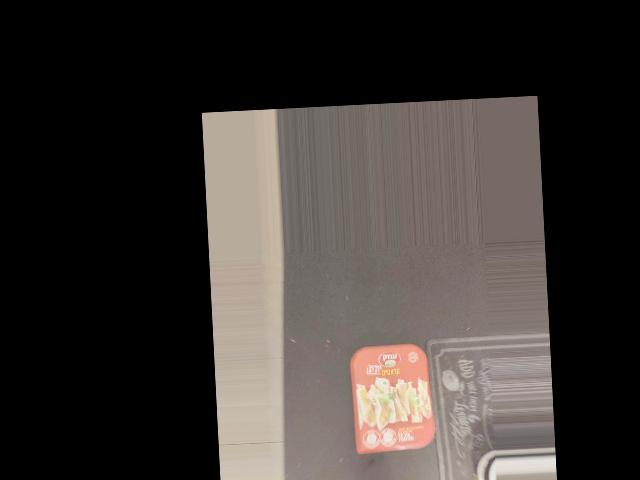cheese: (346, 343, 437, 459)
